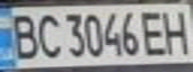0: (81, 9, 106, 58)
3: (60, 9, 84, 58)
4: (103, 8, 124, 57)
6: (118, 7, 145, 57)
B: (3, 10, 42, 61)
C: (33, 10, 63, 60)
E: (139, 7, 172, 57)
H: (157, 6, 193, 55)
